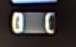COMP: (7, 9, 61, 36)
GAP: (11, 1, 56, 23)
